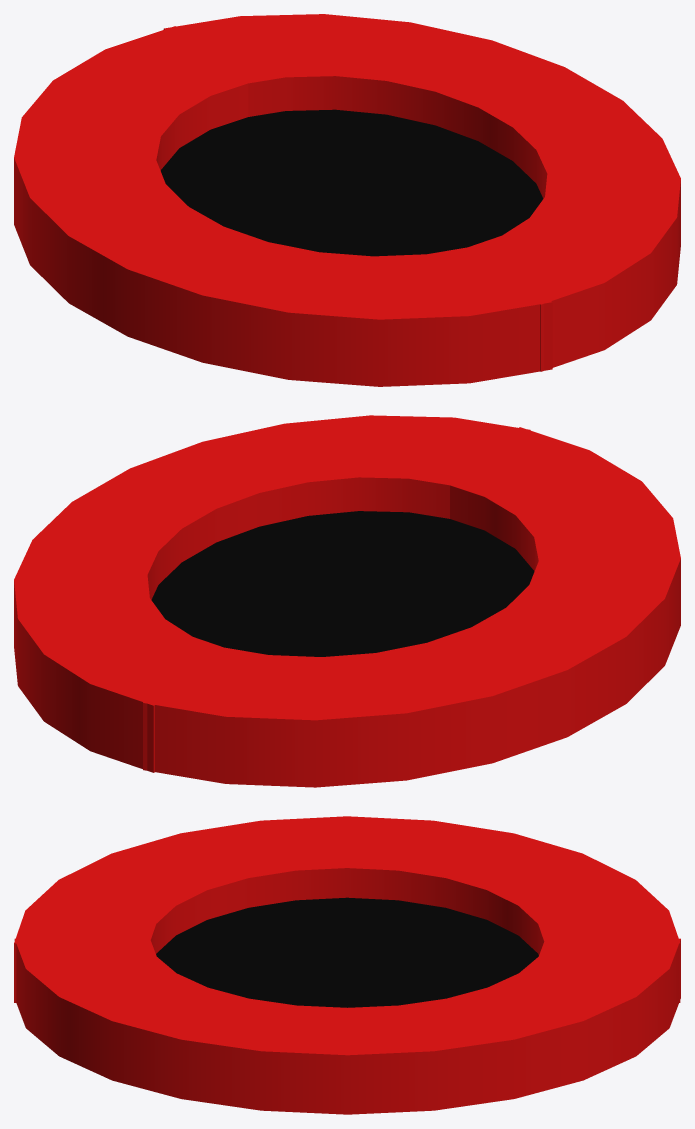
Rendered from Lid.fbx.
3 views of the same model, one above another, from view 1: azimuth 30°, elevation 25°; view 2: azimuth 150°, elevation 25°; view 3: azimuth 270°, elevation 25° (orthographic). The views are drawn at different scales.
Parts seen in each view (by area): view 1: mergedBlocks; view 2: mergedBlocks; view 3: mergedBlocks.
Part boxes in pixels (box(x1,y1,x2,y2)): mergedBlocks: box(14, 14, 680, 386); mergedBlocks: box(14, 415, 680, 787); mergedBlocks: box(14, 816, 680, 1114).
Bounding box in the file's own units: 17.25 × 2 × 20.35.
